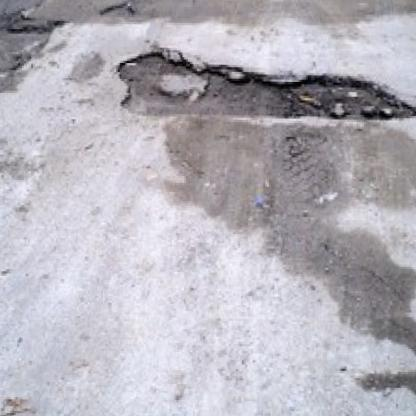pothole: (113, 49, 416, 121), (102, 1, 134, 18)
